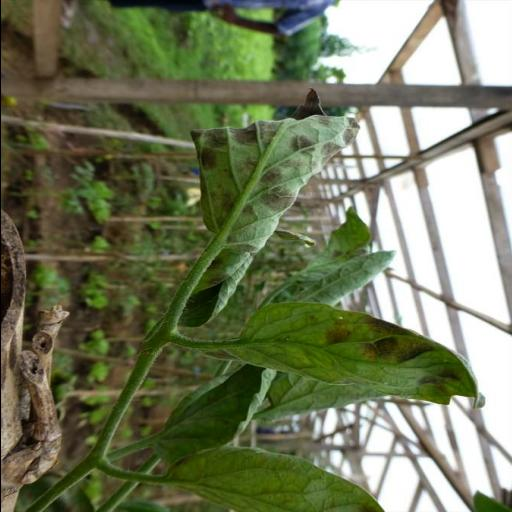Leaf Mold: (223, 298, 505, 403), (189, 113, 359, 255)
